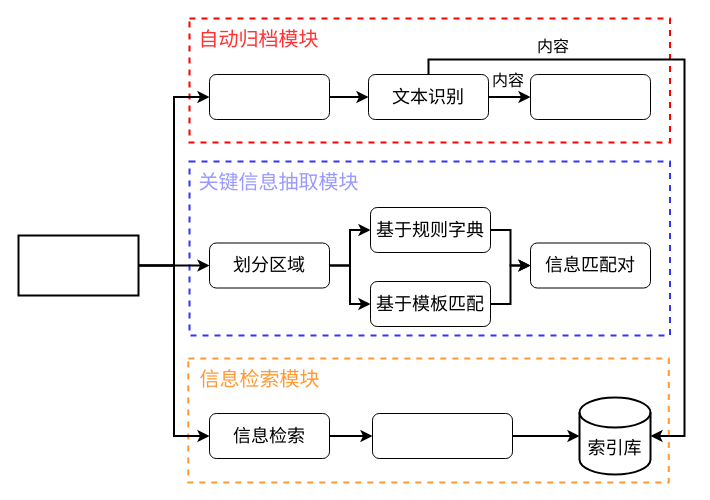
The diagram is 710 pixels wide and 500 high, and some of its shapes have lost their labels. Each missing label, with the centre of its shape:
云病历: (78,265)
文本分类: (590,97)
文本检测: (269,97)
近似最近邻算法: (442,435)
